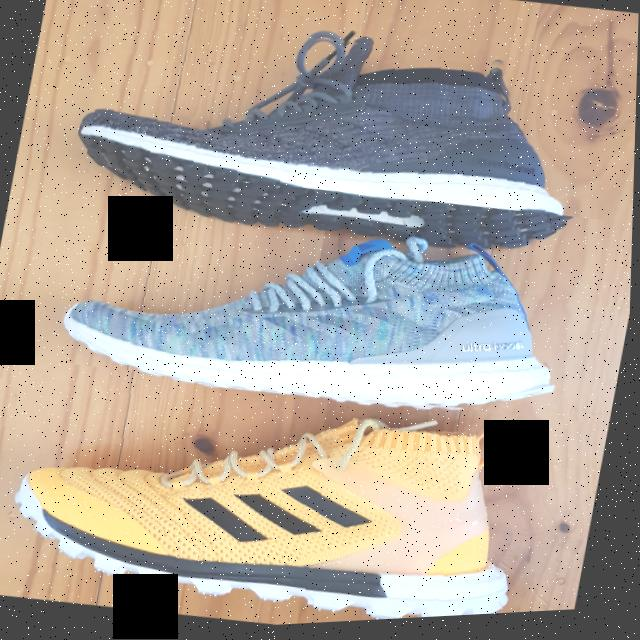shoe: (0, 332, 614, 640), (0, 206, 635, 474), (84, 0, 640, 250)
